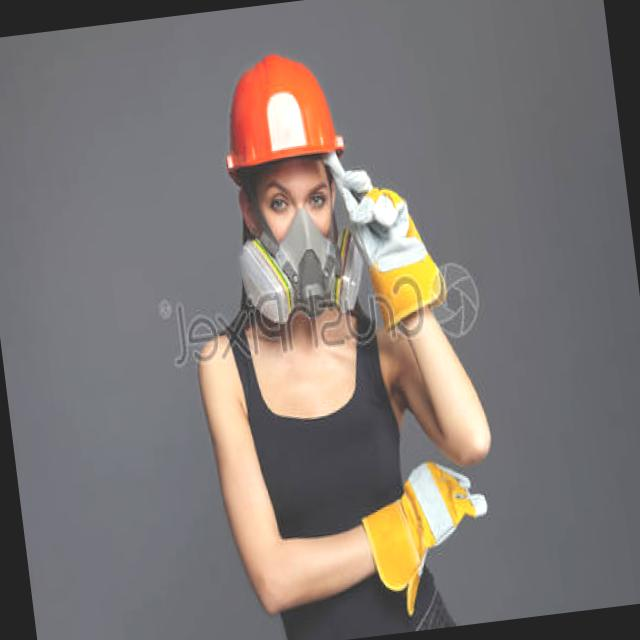helmet: (208, 38, 351, 188)
no-goggles: (245, 153, 342, 228)
no-vest: (214, 272, 418, 588)
